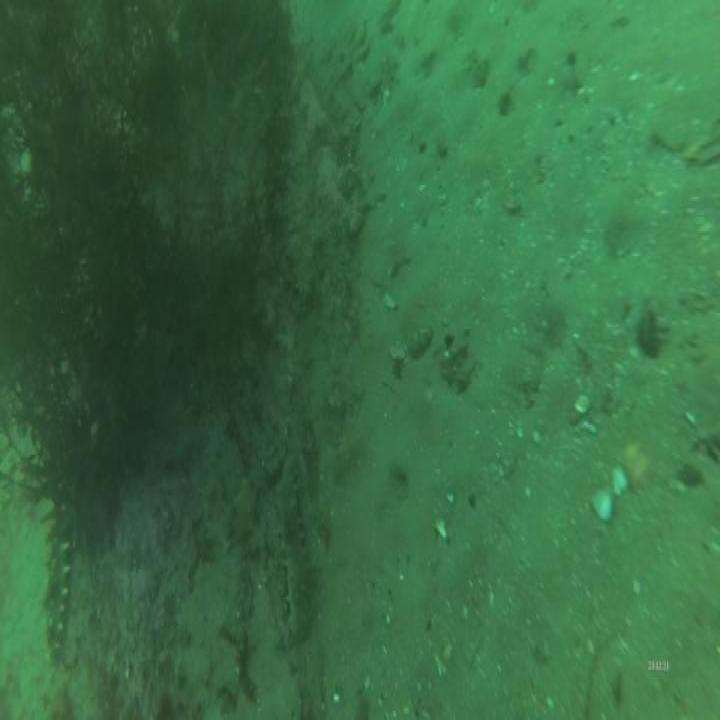holothurian: (276, 453, 323, 649), (41, 509, 75, 663)
